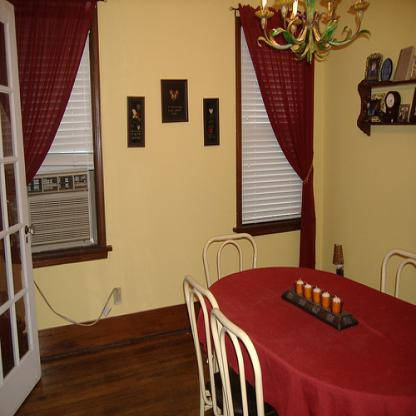chair: (183, 273, 253, 415), (210, 307, 278, 415), (203, 233, 258, 288), (380, 246, 415, 298)
diningtable: (197, 265, 416, 415)
